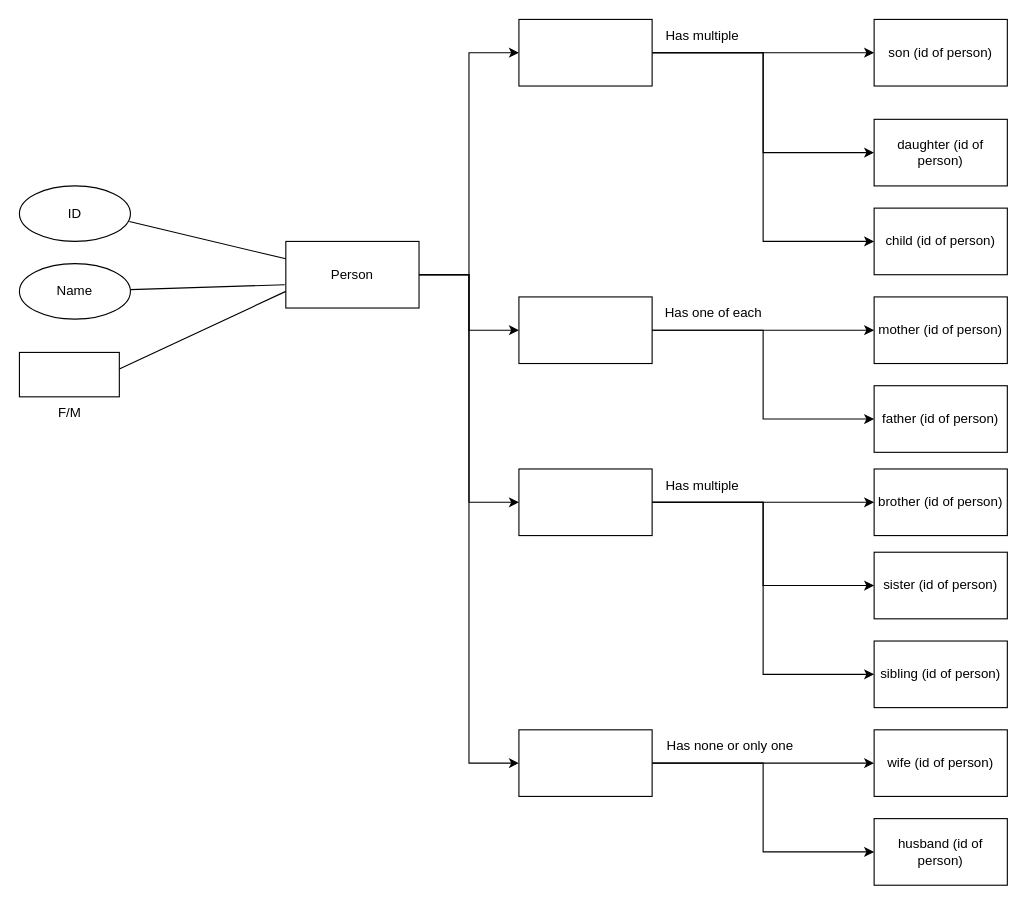
The diagram is 1027 pixels wide and 905 high, and some of its shapes have lost their labels. The shapes that lost their labels are listed below. From the top down, each one's box as (x1, y1, x2, y2) in pixels, then its label:
(518, 18, 652, 86): children
(518, 296, 652, 364): parents
(18, 351, 119, 397): gender
(518, 468, 652, 536): siblings
(518, 729, 652, 796): spouse
